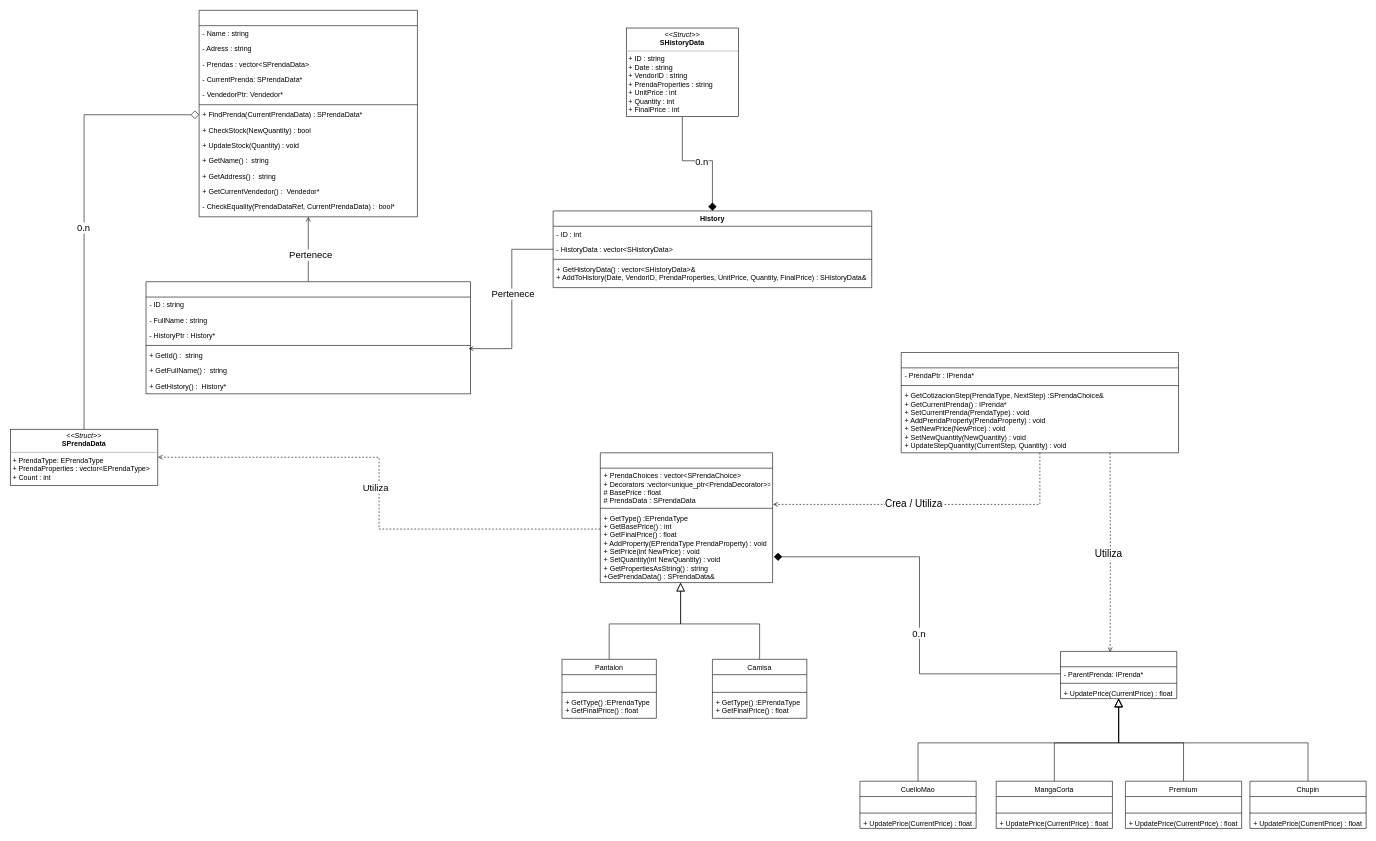
The diagram is 1376 pixels wide and 841 high, and some of its shapes have lost their labels. The shapes that lost their labels are listed below. From the top down, each one's box as (x1, y1, x2, y2) in pixels, then its label:
(199, 10, 417, 217): Store
(145, 281, 471, 394): Vendedor
(901, 352, 1179, 453): PrendaFactory
(600, 452, 773, 583): IPrenda
(1060, 651, 1177, 699): PrendaDecorator
